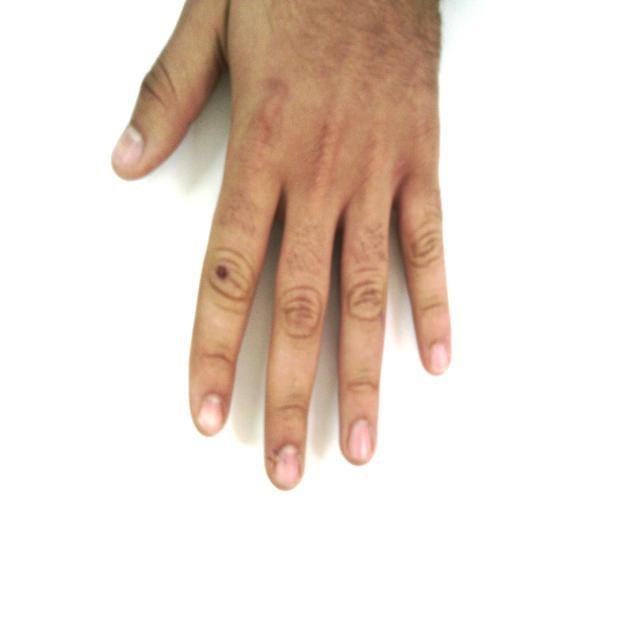Fingernail: (115, 126, 143, 167), (275, 445, 299, 488), (348, 420, 371, 462), (199, 396, 222, 432), (431, 343, 448, 373)
